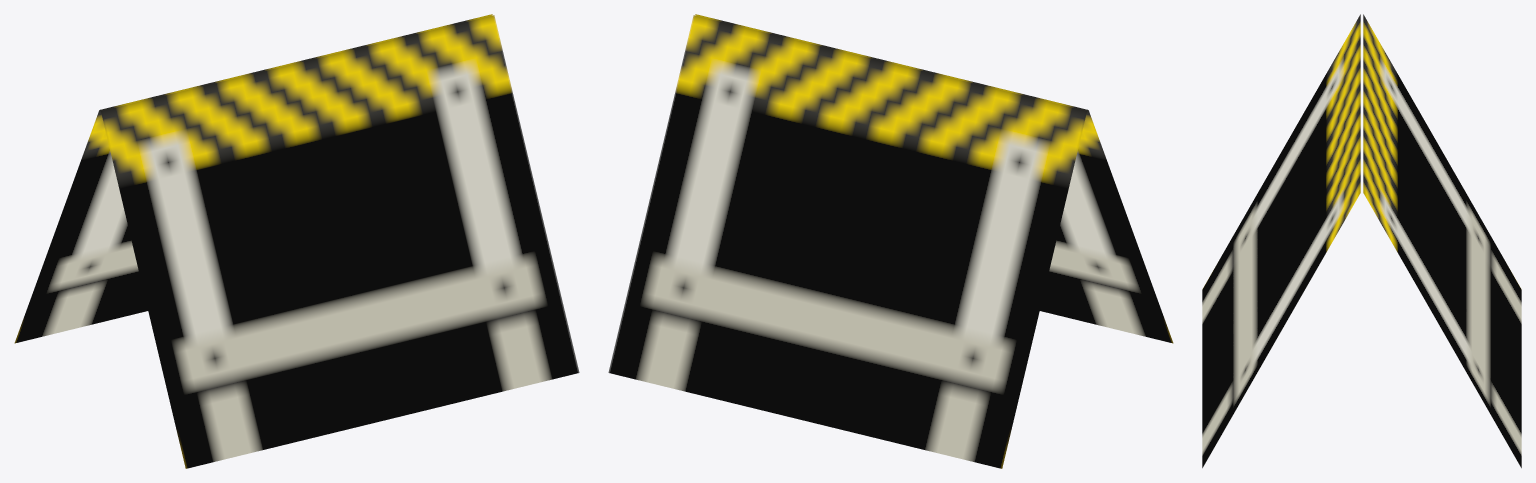
Rendered from sawhorsebarricade.glb.
3 renders of one model, left to right at view 1: azimuth 30°, elevation 25°; view 2: azimuth 150°, elevation 25°; view 3: azimuth 270°, elevation 25°, orthographic. The views are drawn at different scales.
Visible parts, largest first — view 1: sawhorseBarricade; view 2: sawhorseBarricade; view 3: sawhorseBarricade.
Boxes of the visible parts, x1,y1,x2,y2 form: sawhorseBarricade: (14,14,579,468); sawhorseBarricade: (608,14,1173,468); sawhorseBarricade: (1202,14,1521,468).
Bounding box in the file's own units: 1.65 × 1.18 × 1.24.
Materials: 1 (1 with a texture image).
